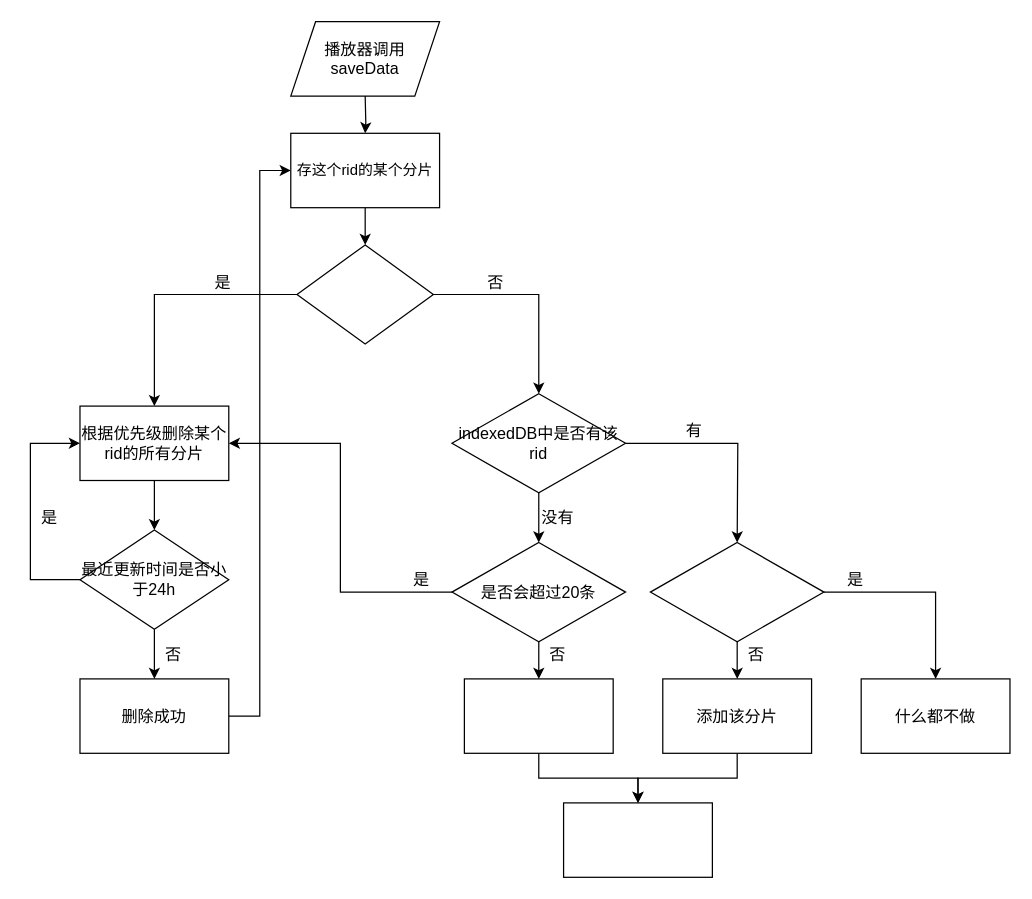
Image size: 1032x899. Some labels were removed from this diagram. The shapes that lost their labels are listed below. From the top down, each one's centre as x and y in pixels, then its label:
At point (364, 294): "是否会超过500M".
At point (736, 591): "indexedDB中是否有该分片".
At point (538, 715): "添加该rid以及该rid的分片".
At point (637, 839): "更新该rid的最近更新时间".
